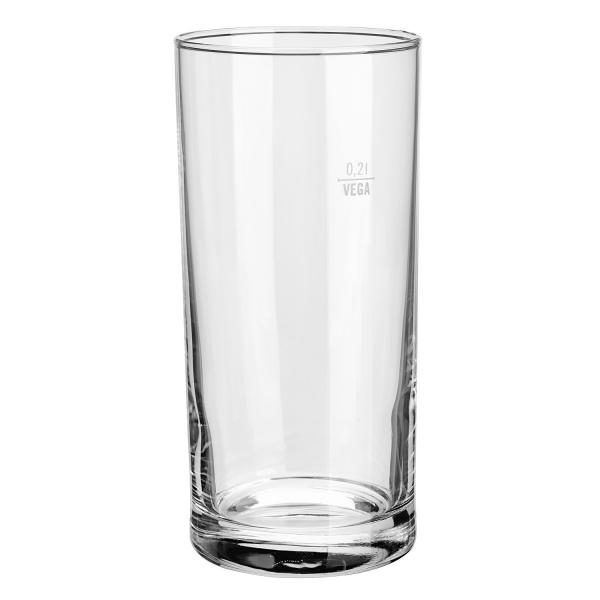glass: (175, 26, 421, 578)
